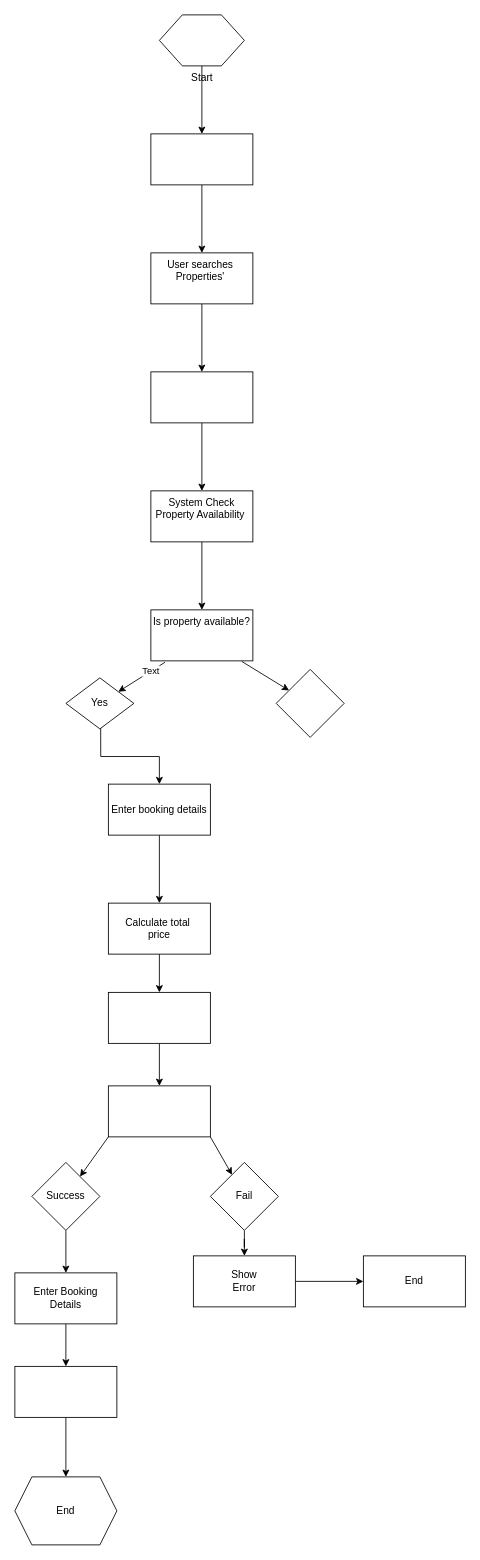
The diagram is 480 pixels wide and 1560 high, and some of its shapes have lost their labels. Each missing label, with the box of its shape:
Confirm booking: (108, 992, 210, 1043)
No: (275, 669, 344, 737)
Process payment: (108, 1085, 210, 1137)
Send confirmation: (14, 1366, 117, 1417)
User Logs in: (150, 133, 253, 185)
User Select Properties: (150, 371, 253, 423)
